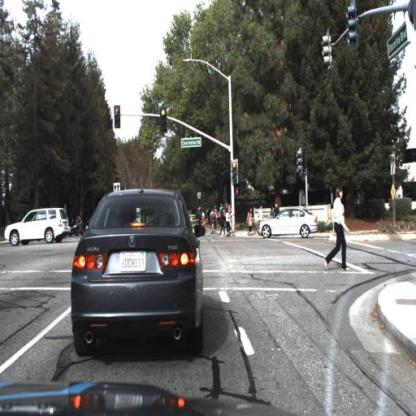biker: (206, 206, 220, 237), (272, 202, 282, 224)
car: (70, 185, 207, 361), (6, 209, 70, 247), (258, 206, 322, 242), (66, 212, 85, 239)
pedestrian: (322, 184, 356, 275), (322, 183, 353, 273), (193, 203, 211, 232), (225, 206, 233, 238), (219, 207, 227, 238), (247, 205, 254, 237), (197, 207, 205, 232)
trafficLight-Red: (230, 158, 241, 186), (159, 105, 168, 136)
trafficLight-RedLeft: (113, 103, 122, 130)
